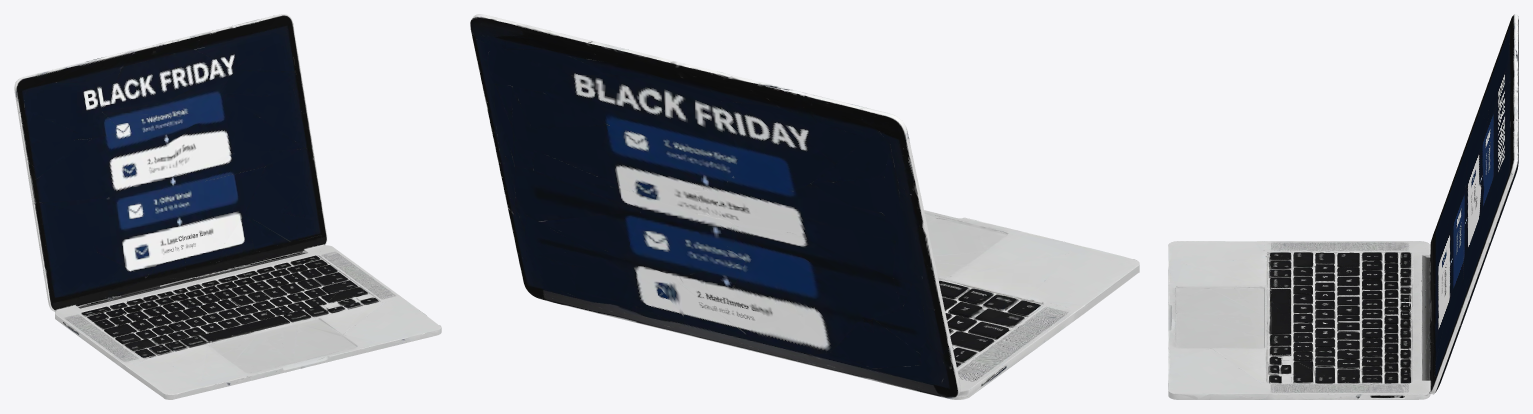
File: laptop-black-friday.glb
3 renders of one model, left to right at view 1: azimuth 30°, elevation 25°; view 2: azimuth 150°, elevation 25°; view 3: azimuth 270°, elevation 25°, orthographic. The views are drawn at different scales.
Visible parts, largest first — view 1: Mesh_0; view 2: Mesh_0; view 3: Mesh_0.
Part boxes in pixels (x1,y1,x2,y2): Mesh_0: (14,14,441,399); Mesh_0: (470,14,1139,399); Mesh_0: (1168,14,1518,399).
Size of the model in its own units: 1.9 by 1.37 by 1.84.
1 material, 1 textured.
